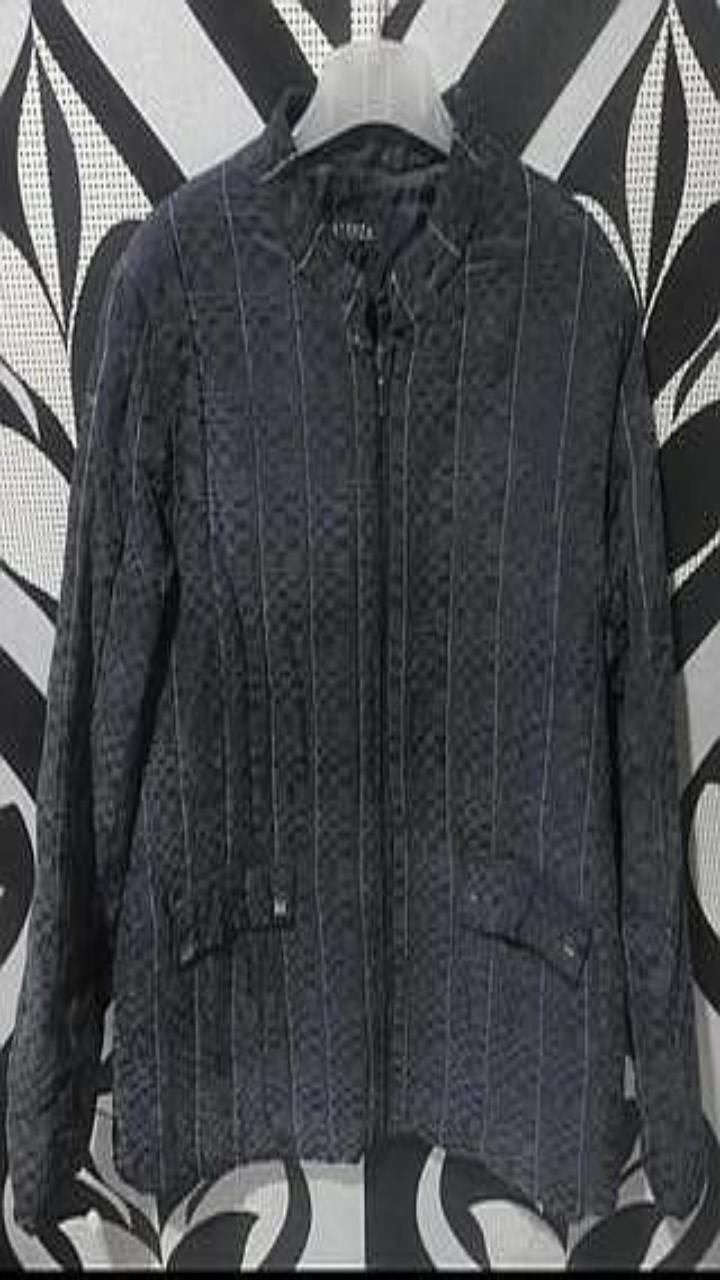Sports_Jacket: (6, 84, 705, 1230)
